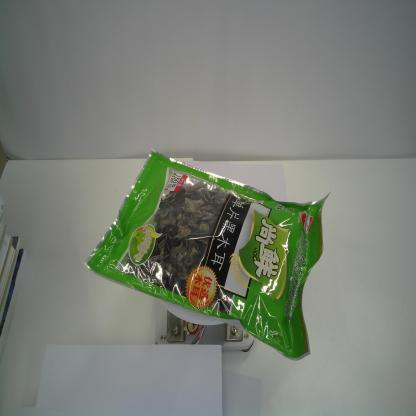Dried Food: (83, 148, 331, 361)
